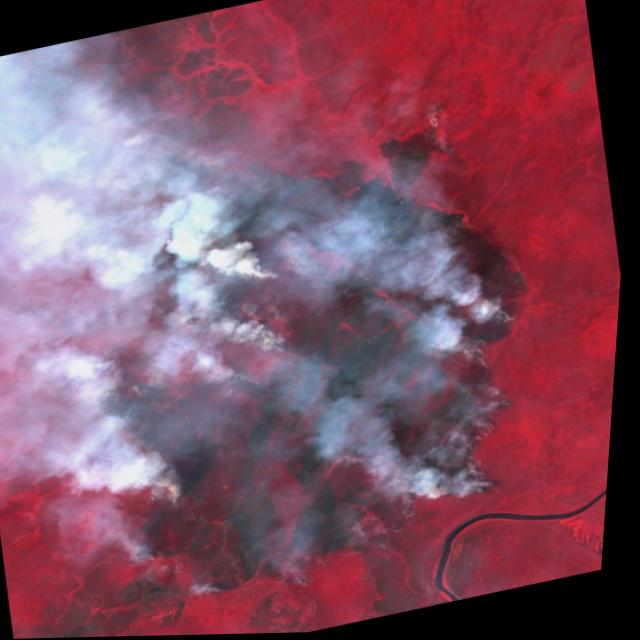fire: (29, 61, 606, 639)
